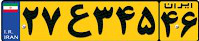character: (66, 3, 93, 39), (40, 3, 65, 38), (135, 2, 157, 40), (114, 3, 137, 39), (92, 4, 115, 38), (21, 3, 41, 38), (179, 10, 199, 39), (160, 9, 179, 39)
